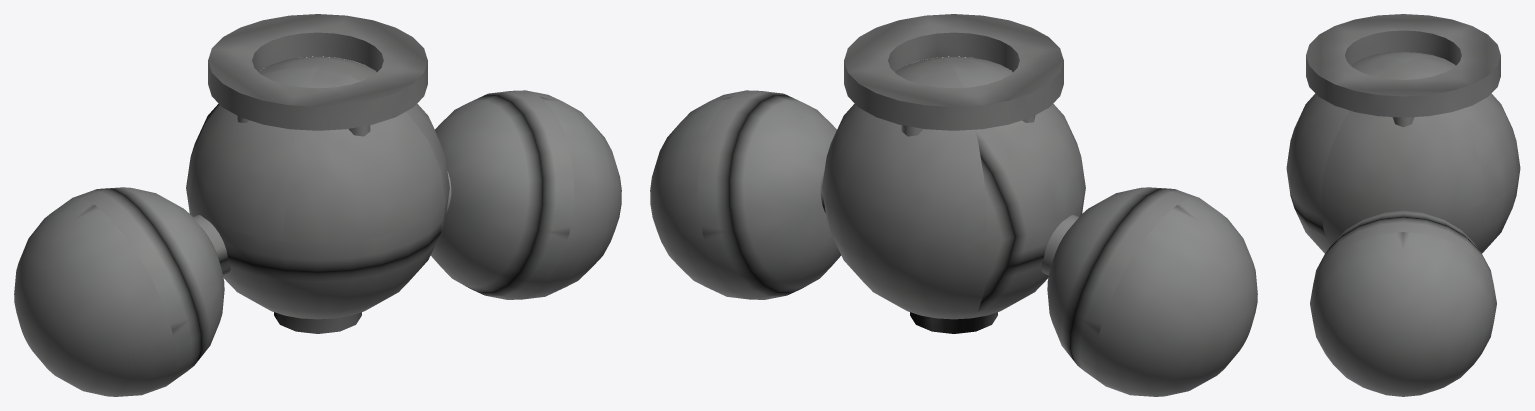
Rendered from ye85_fuel_tank_s00_1.obj.
The picture shows the model from 3 angles, left to right: view 1: azimuth 30°, elevation 25°; view 2: azimuth 150°, elevation 25°; view 3: azimuth 270°, elevation 25°; orthographic projection. The views are drawn at different scales.
Visible parts, largest first — view 1: 1; view 2: 1; view 3: 1.
Part boxes in pixels (x1=…): 1: x1=14, y1=14, x2=621, y2=396; 1: x1=650, y1=14, x2=1257, y2=396; 1: x1=1286, y1=14, x2=1520, y2=396.
Size of the model in its own units: 0.952 by 0.4374 by 0.375.
